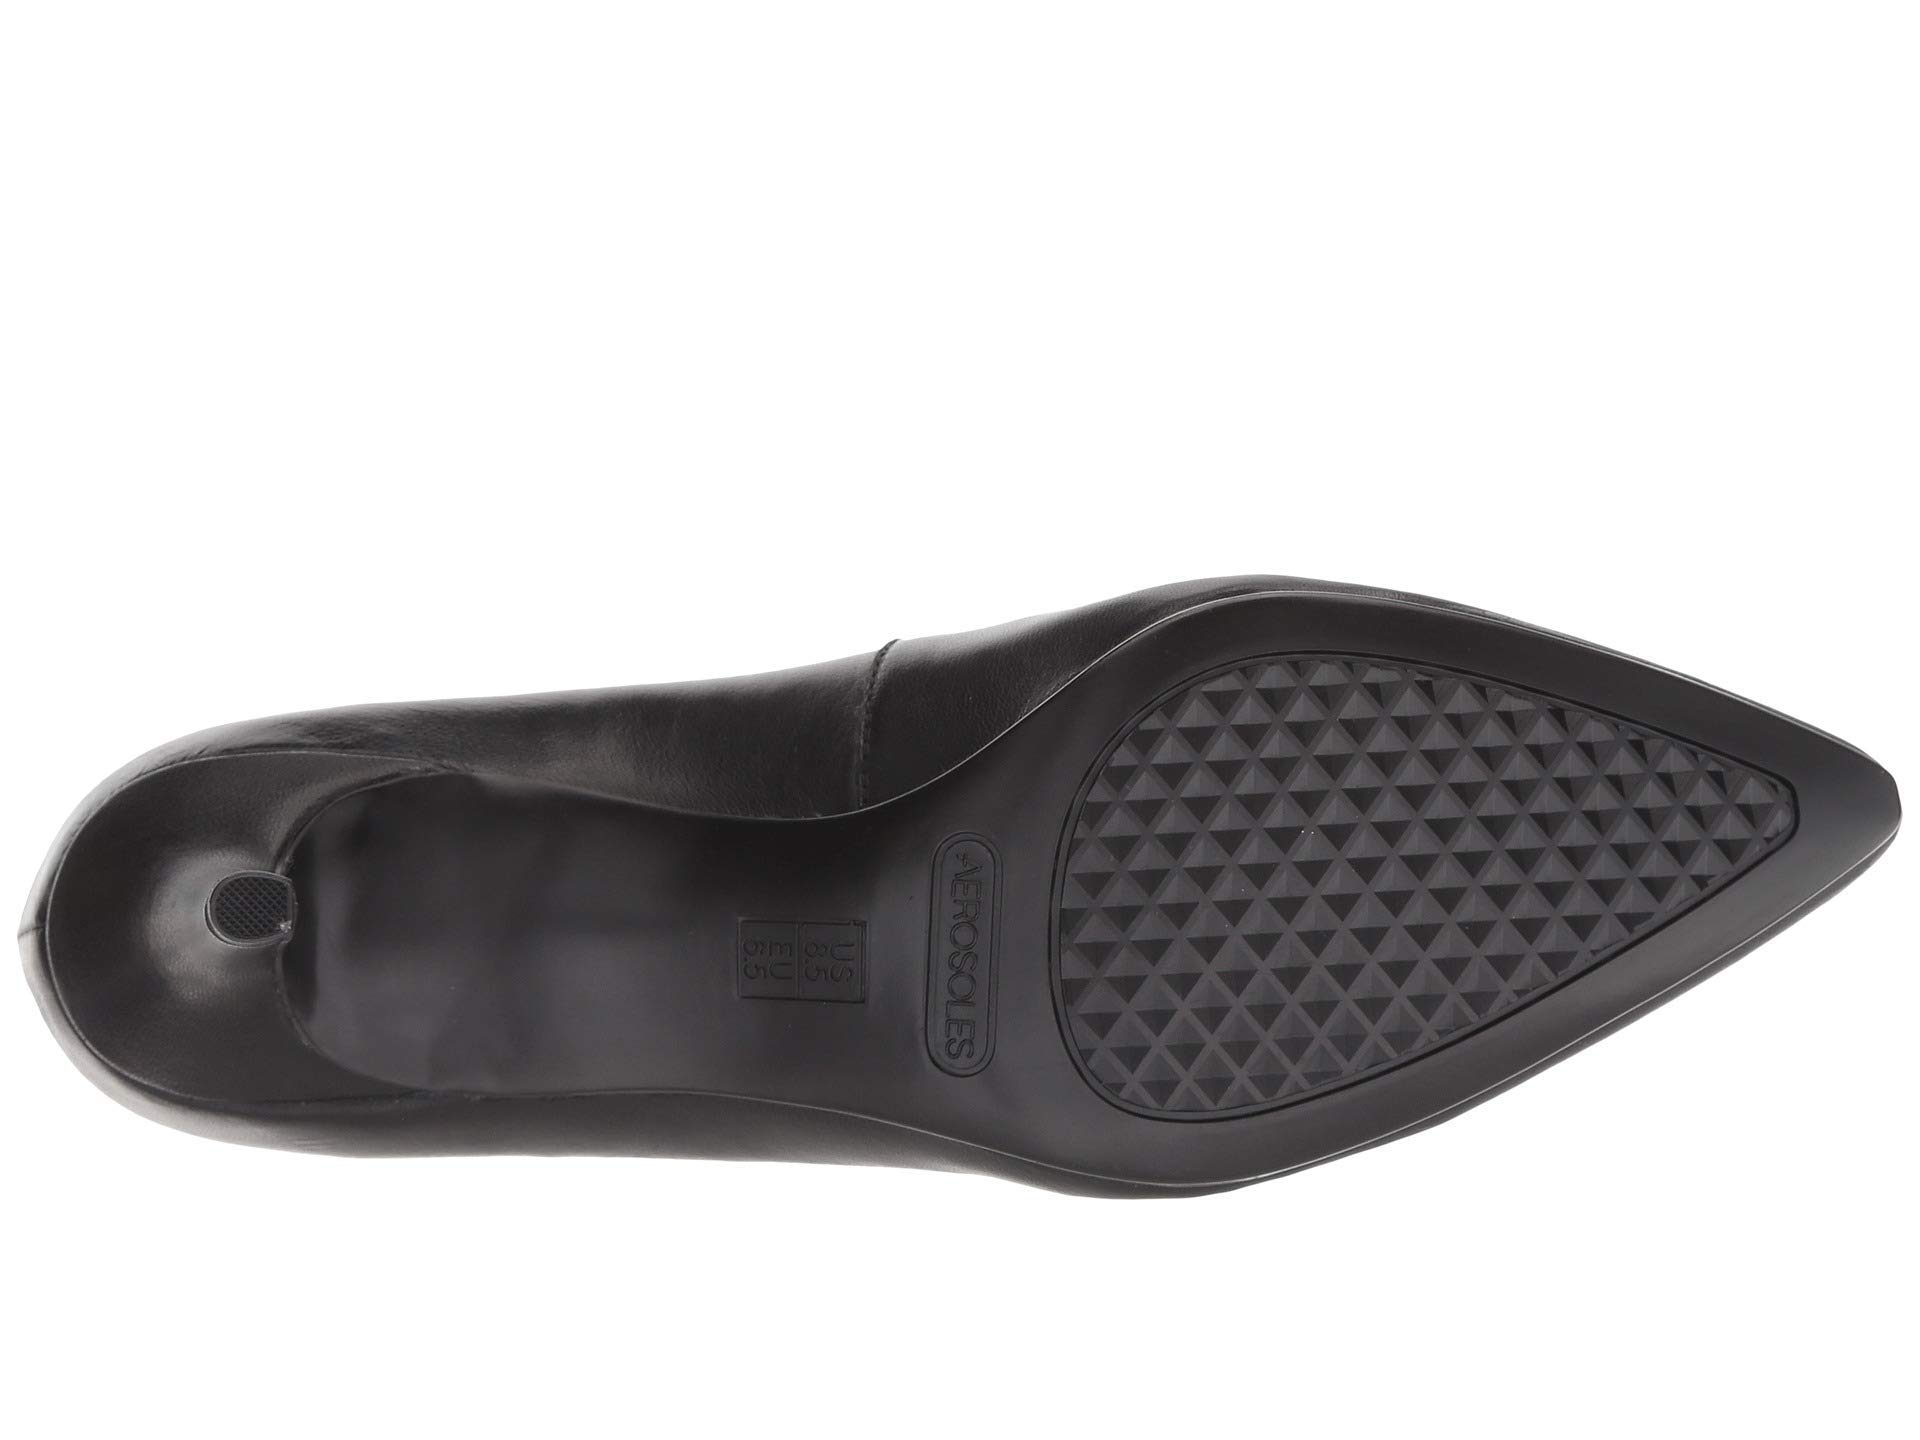quad: (1208, 717, 1557, 1016)
triangle: (1208, 717, 1557, 1016)
